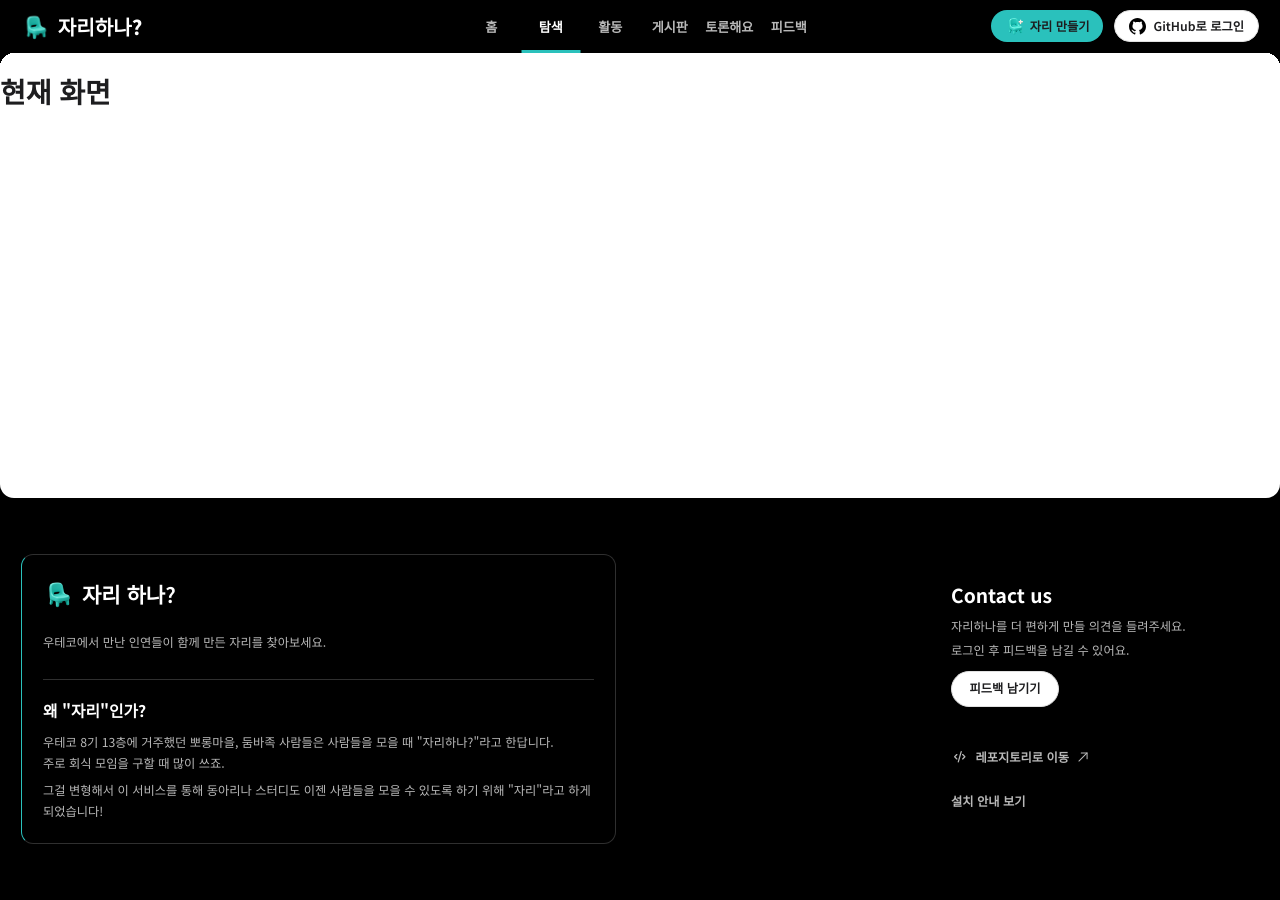
Test case: shows the login-required dialog from the feedback footer without redirecting
The width and height of the screenshot is (1280, 900).
Step 1. Click the button "피드백 남기기" → (1005, 689), box x1=951 y1=671 x2=1059 y2=707
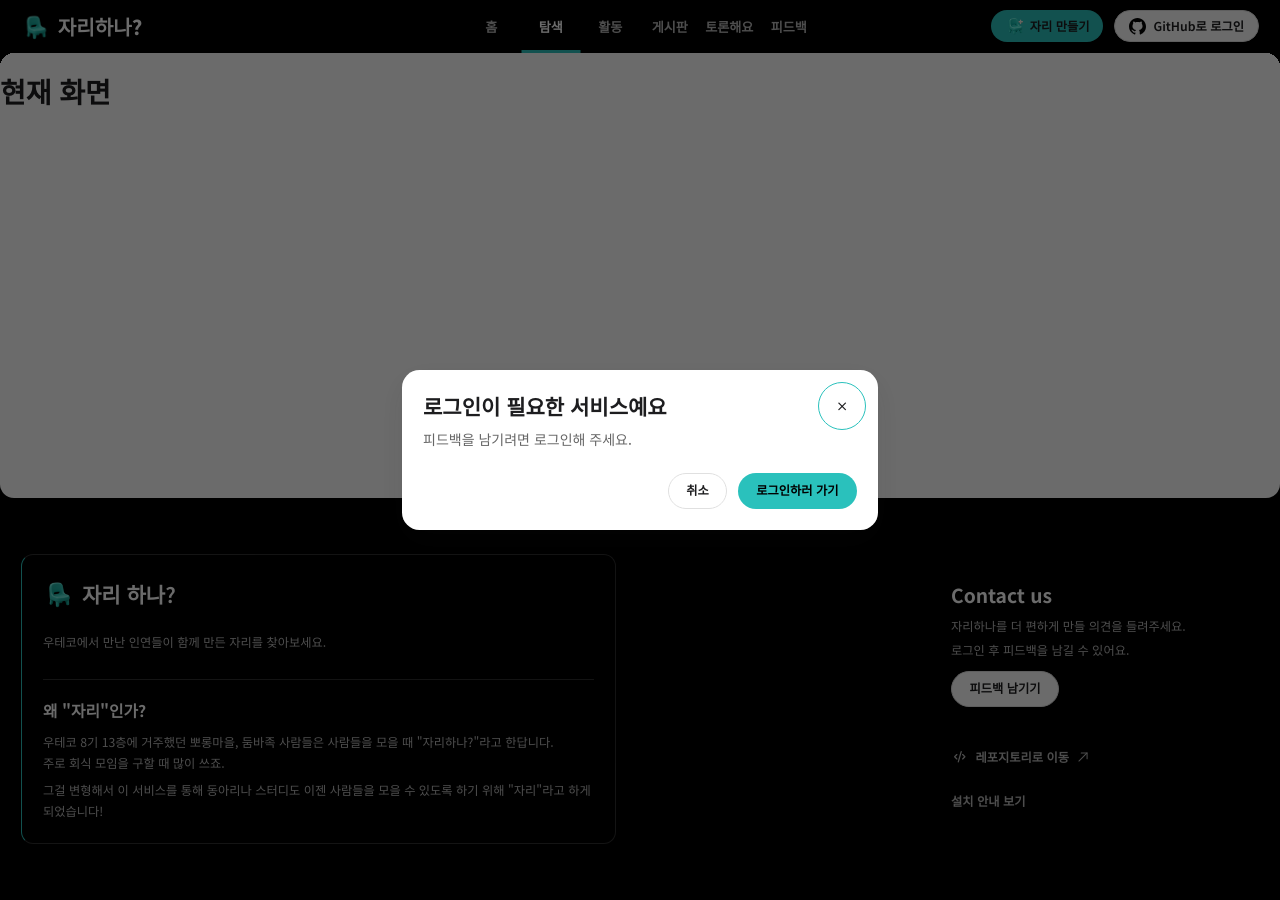
Expected: the dialog "로그인이 필요한 서비스예요" is shown, x1=402 y1=370 x2=878 y2=530
Expected: the text "피드백을 남기려면 로그인해 주세요." is shown, x1=423 y1=430 x2=632 y2=450
Expected: the button "로그인하러 가기" is shown, x1=738 y1=472 x2=857 y2=508
